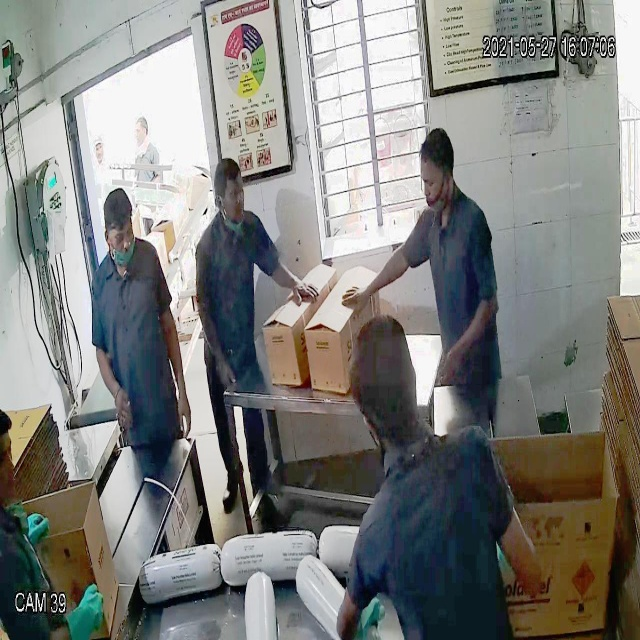Sin_gafas: (420, 165, 454, 200), (100, 220, 135, 253)
